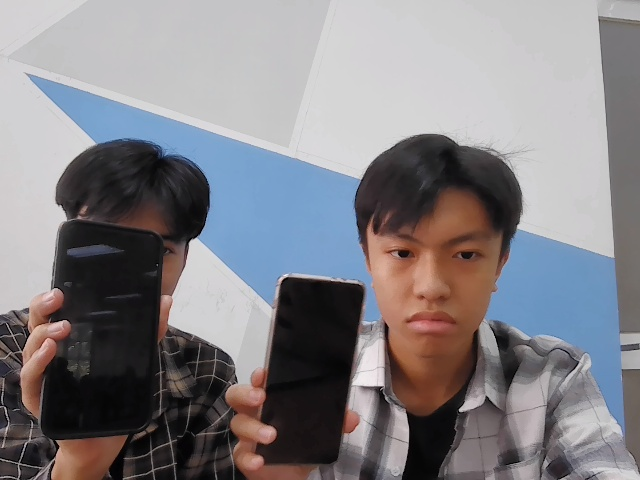human: (354, 134, 517, 361)
phone: (38, 220, 171, 442), (252, 273, 354, 467)
